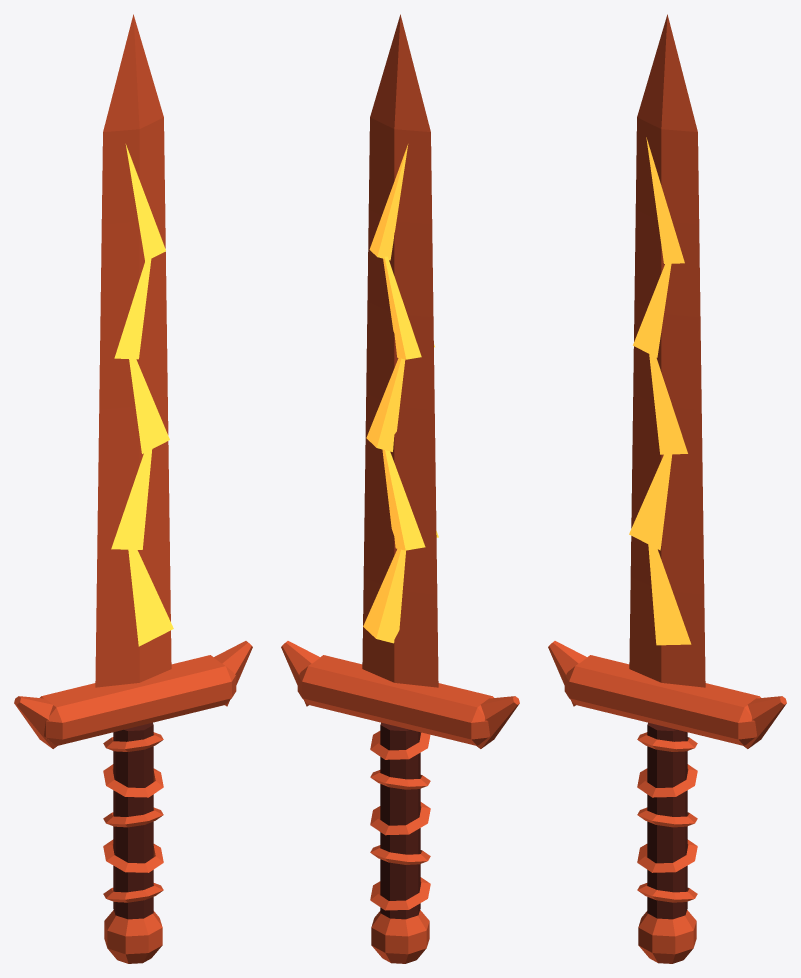
File: weapon_sword_ember_v01.glb
3 renders of one model, left to right at view 1: azimuth 30°, elevation 25°; view 2: azimuth 150°, elevation 25°; view 3: azimuth 330°, elevation 25°, orthographic.
Visible parts, largest first — view 1: weapon_sword_ember; view 2: weapon_sword_ember; view 3: weapon_sword_ember.
Boxes of the visible parts, box(x1,y1,x2,y2) form: weapon_sword_ember: box(14, 14, 252, 963); weapon_sword_ember: box(281, 14, 519, 963); weapon_sword_ember: box(548, 14, 786, 963).
Bounding box in the file's own units: 0.2235 × 0.856 × 0.0504.
